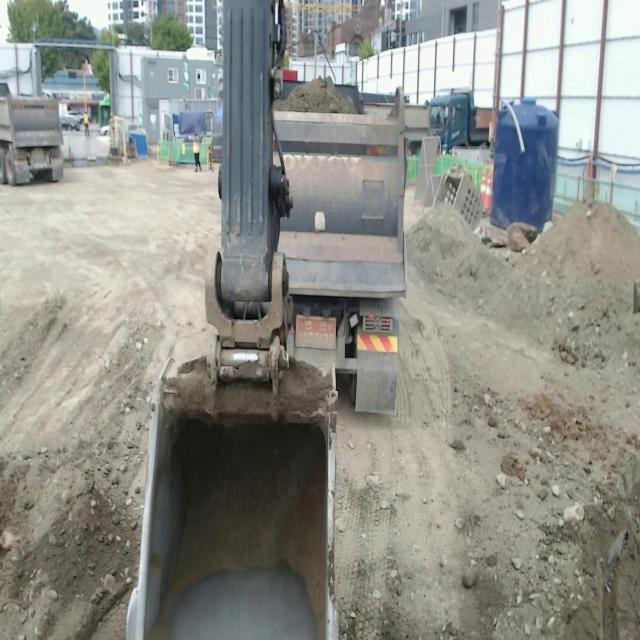white-sand: (336, 204, 640, 640), (0, 163, 219, 640)
